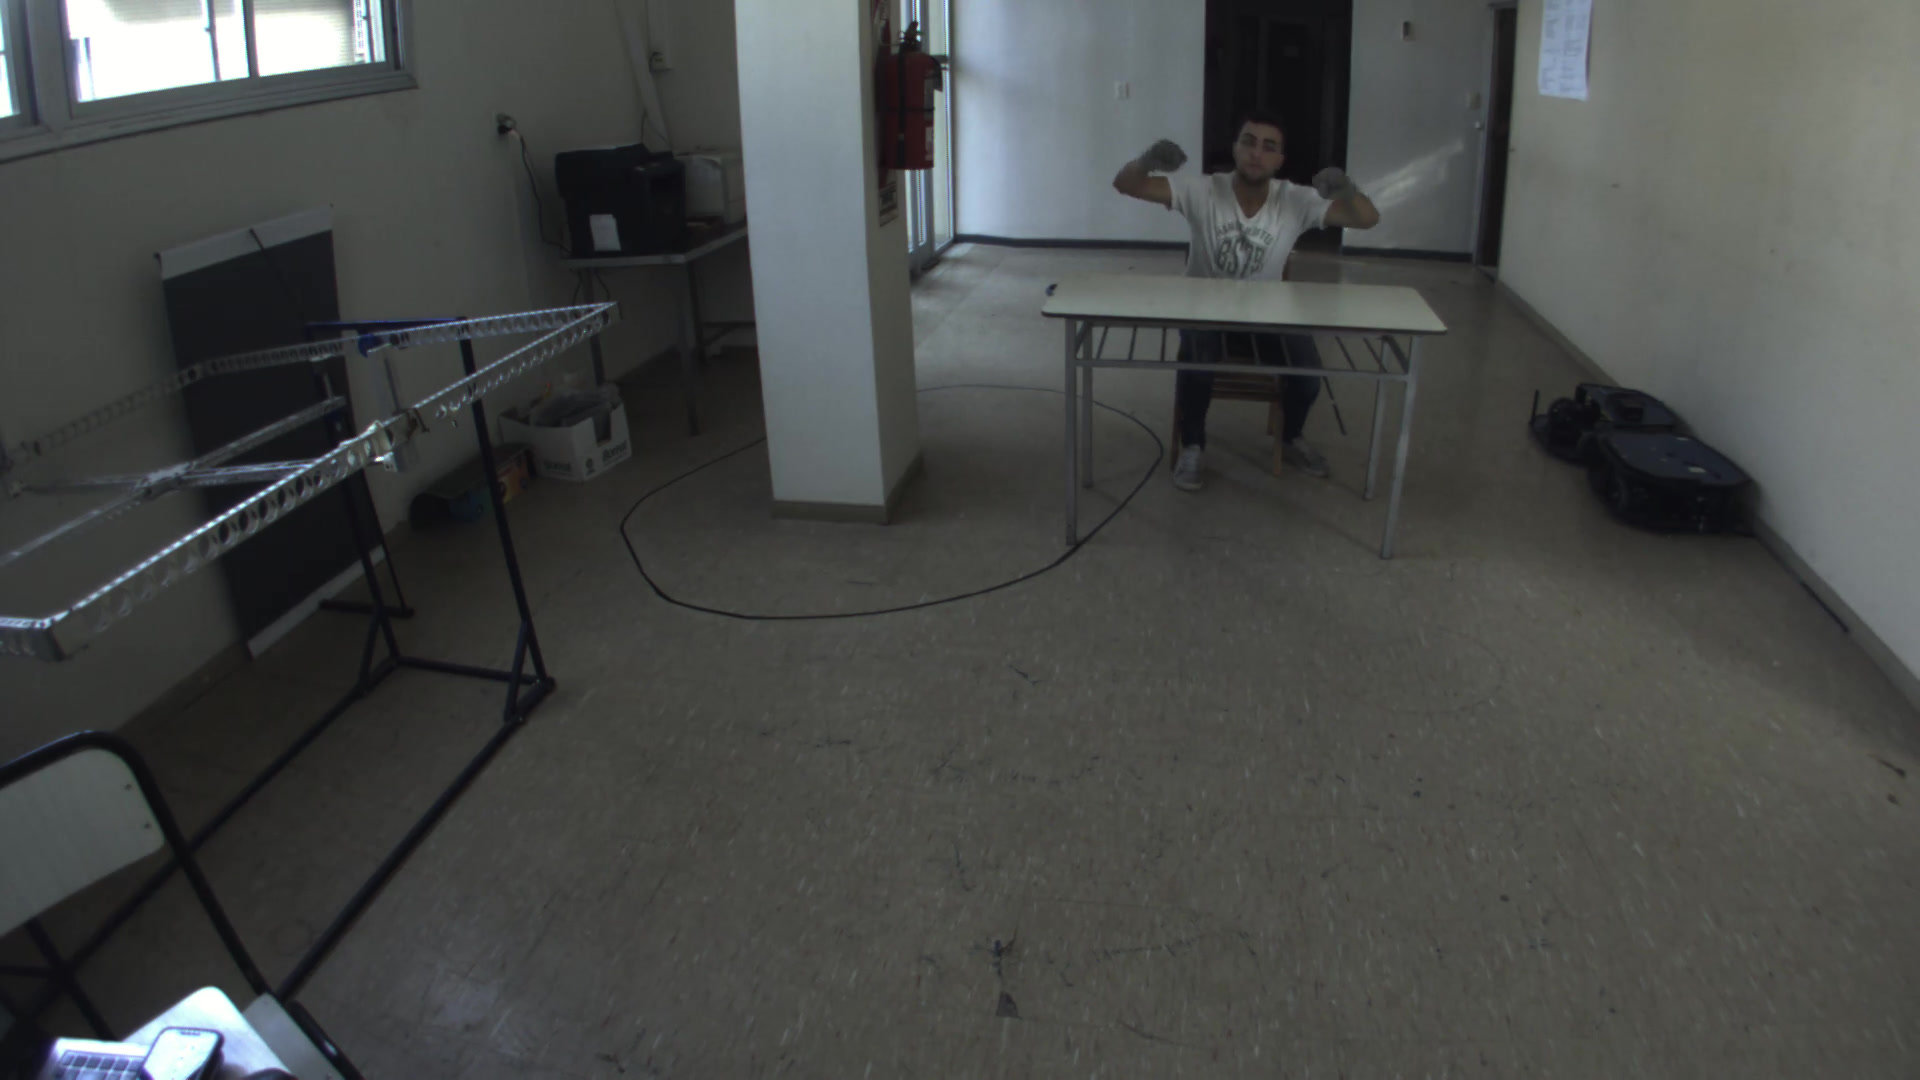hand: (1309, 160, 1360, 208), (1139, 137, 1188, 177)
